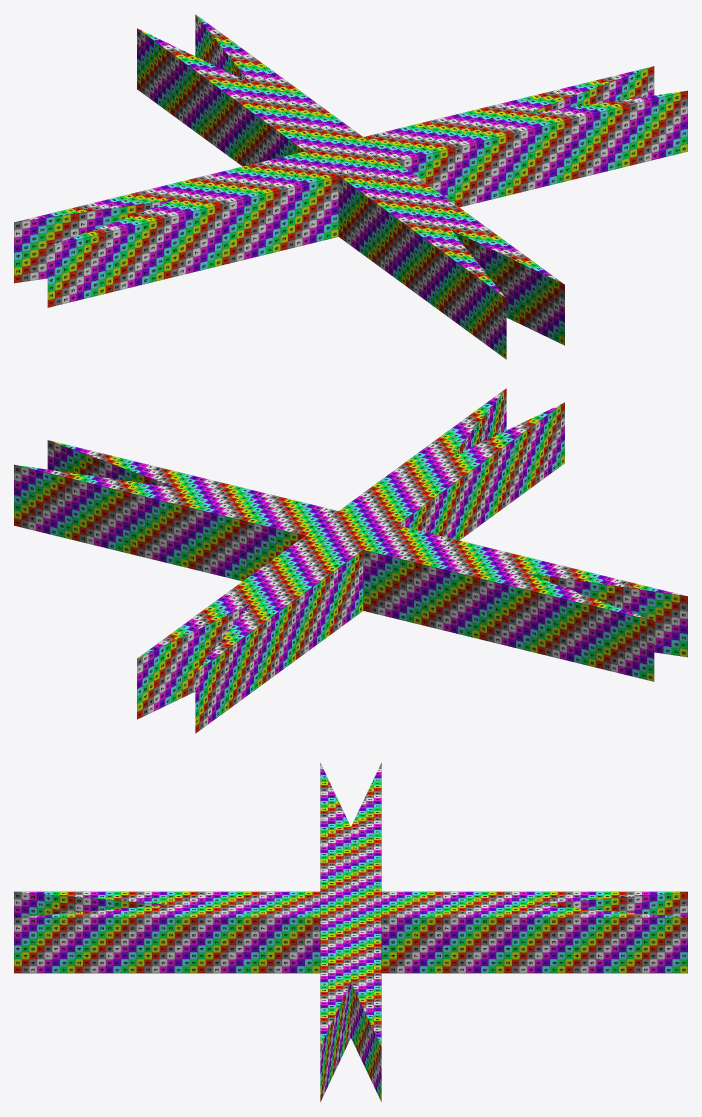
Rendered from garagenrampe7.glb.
3 views of the same model, one above another, from view 1: azimuth 30°, elevation 25°; view 2: azimuth 150°, elevation 25°; view 3: azimuth 270°, elevation 25° (orthographic). The views are drawn at different scales.
Visible parts, largest first — view 1: threeX, twoX, threeY, fourY, twoY, fourX, oneX, oneY; view 2: fourX, oneX, fourY, threeY, oneY, threeX, twoX, twoY, Cube; view 3: oneY, twoY, oneX, threeY, fourY, twoX, threeX, fourX, Cube.
Boxes of the visible parts, <box> form: threeX: <box>47,151,393,307</box>; twoX: <box>397,90,687,207</box>; threeY: <box>308,153,506,359</box>; fourY: <box>137,28,321,166</box>; twoY: <box>342,162,564,345</box>; fourX: <box>14,151,328,283</box>; oneX: <box>305,66,654,174</box>; oneY: <box>195,14,395,173</box>; fourX: <box>310,525,654,681</box>; oneX: <box>14,464,387,581</box>; fourY: <box>195,527,390,733</box>; threeY: <box>305,402,564,544</box>; oneY: <box>137,527,392,719</box>; threeX: <box>309,525,687,657</box>; twoX: <box>47,440,395,535</box>; twoY: <box>307,388,506,534</box>; Cube: <box>306,525,396,547</box>; oneY: <box>320,892,687,973</box>; twoY: <box>14,892,370,973</box>; oneX: <box>320,892,381,1101</box>; threeY: <box>14,891,366,917</box>; fourY: <box>370,891,687,917</box>; twoX: <box>320,893,380,1101</box>; threeX: <box>320,763,380,915</box>; fourX: <box>321,763,381,911</box>; Cube: <box>320,891,381,917</box>.
Size of the model in its own units: 11 by 1 by 11.
Materials: 1 (1 with a texture image).
